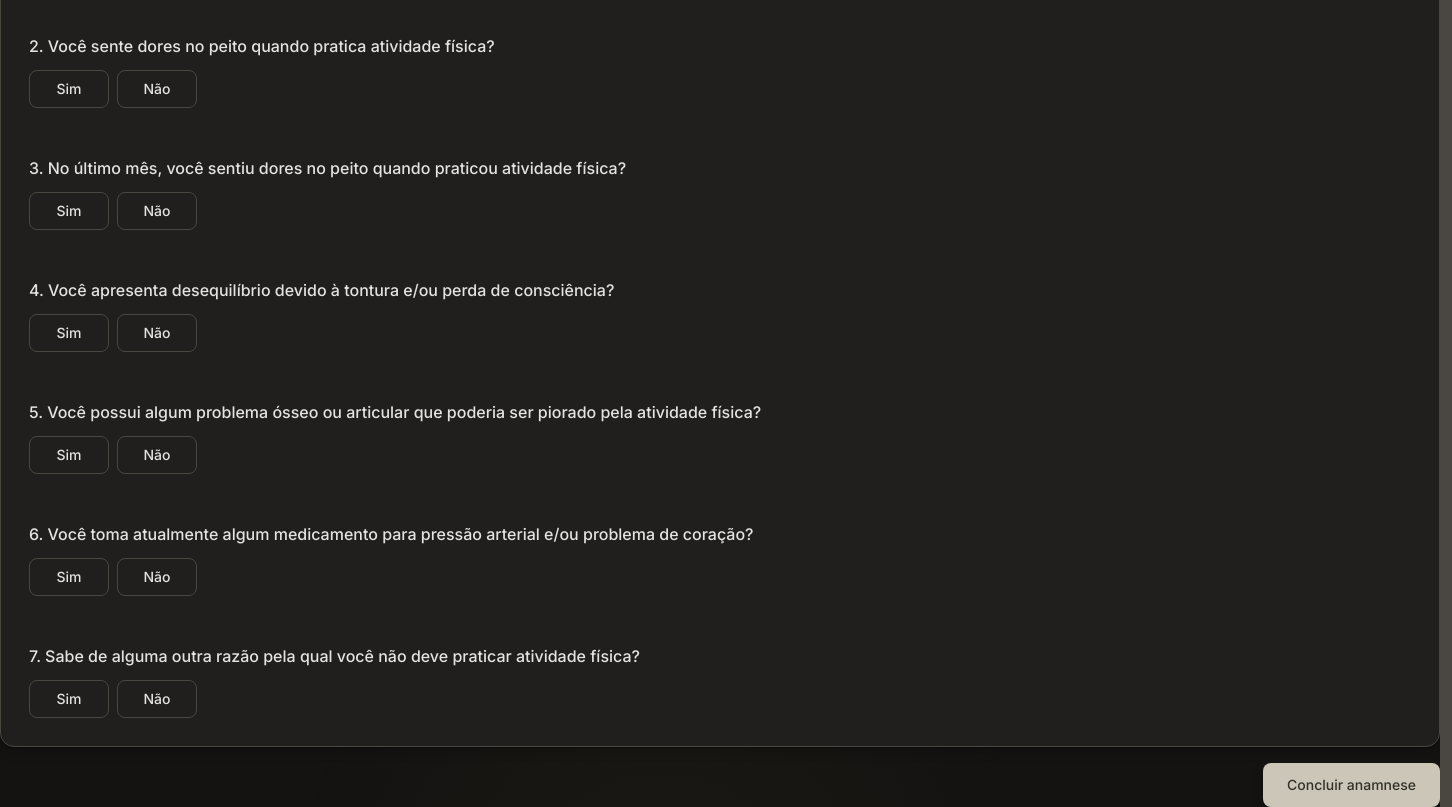
Test: AnamnesisFiller › não conclui com perguntas em branco e aponta quantas faltam
This screenshot has width=1452, height=807.
(page scrolled)
Click the button "Concluir anamnese" at point(1352, 785), box [1263,763,1440,806]
(page scrolled)
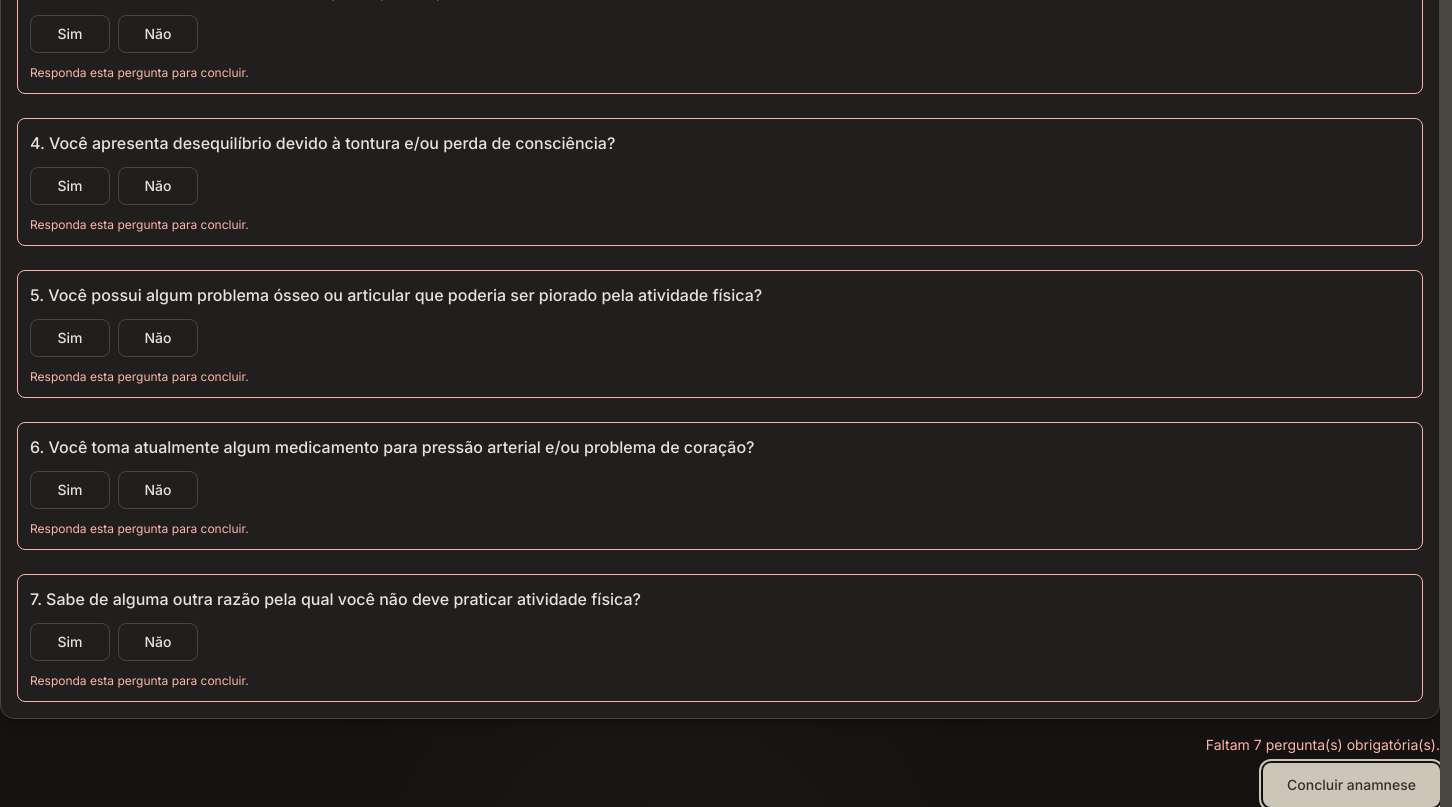
Now the text "Faltam 7 pergunta(s) obrigatória(s)." is shown, box [1206,735,1440,755]
